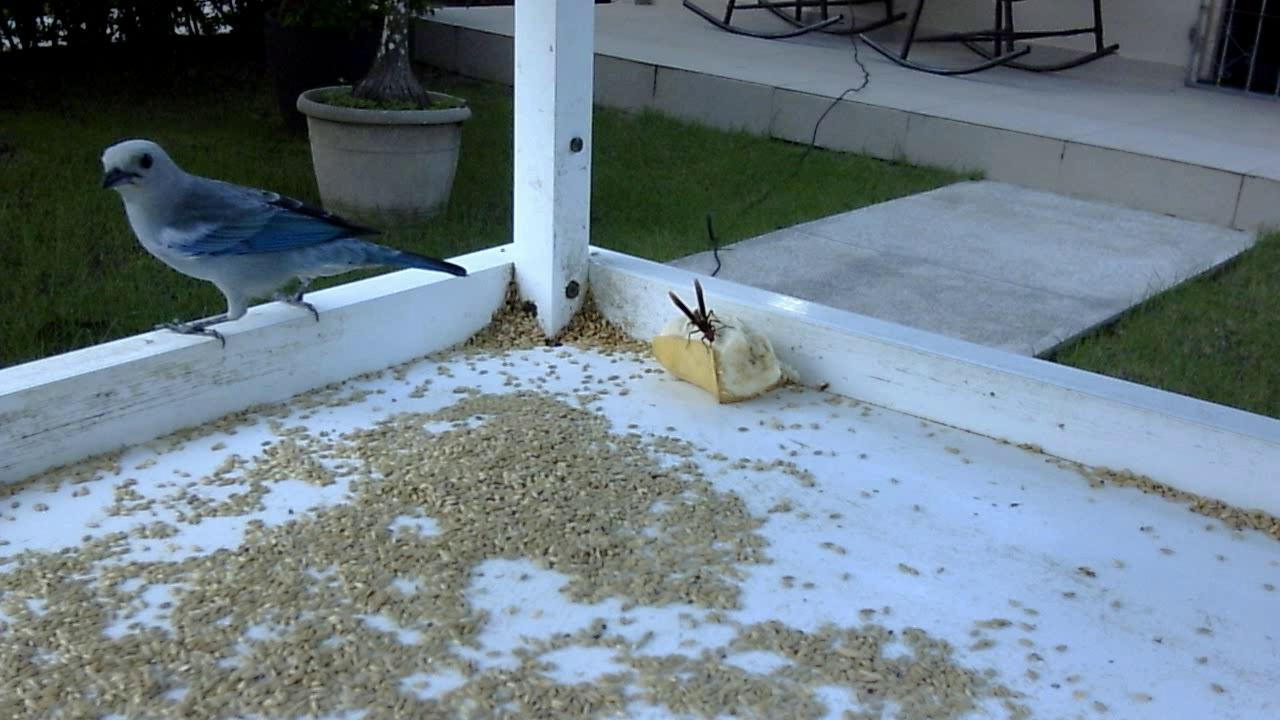sanhaco_da_amazonia: (97, 138, 466, 348)
